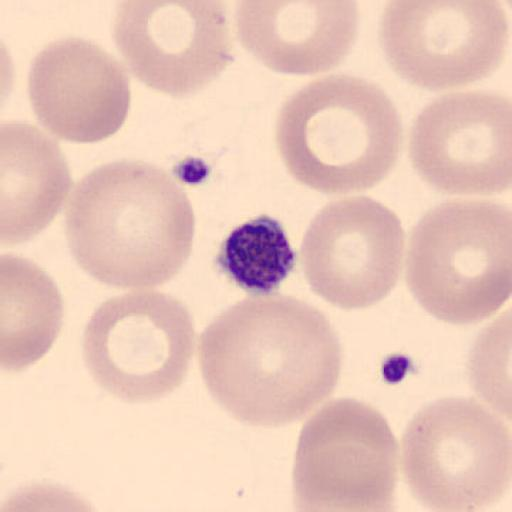Platelet: (206, 211, 312, 297), (173, 151, 225, 188), (376, 351, 418, 392)
RBC: (198, 292, 342, 429), (65, 156, 198, 294), (272, 72, 405, 197), (404, 194, 510, 324), (398, 394, 511, 510), (81, 292, 195, 406), (300, 194, 407, 310), (292, 395, 398, 511), (377, 0, 510, 92), (111, 0, 233, 100), (406, 89, 510, 202), (27, 37, 132, 145), (233, 0, 363, 75), (0, 120, 68, 247), (0, 246, 65, 375), (466, 306, 510, 419)
